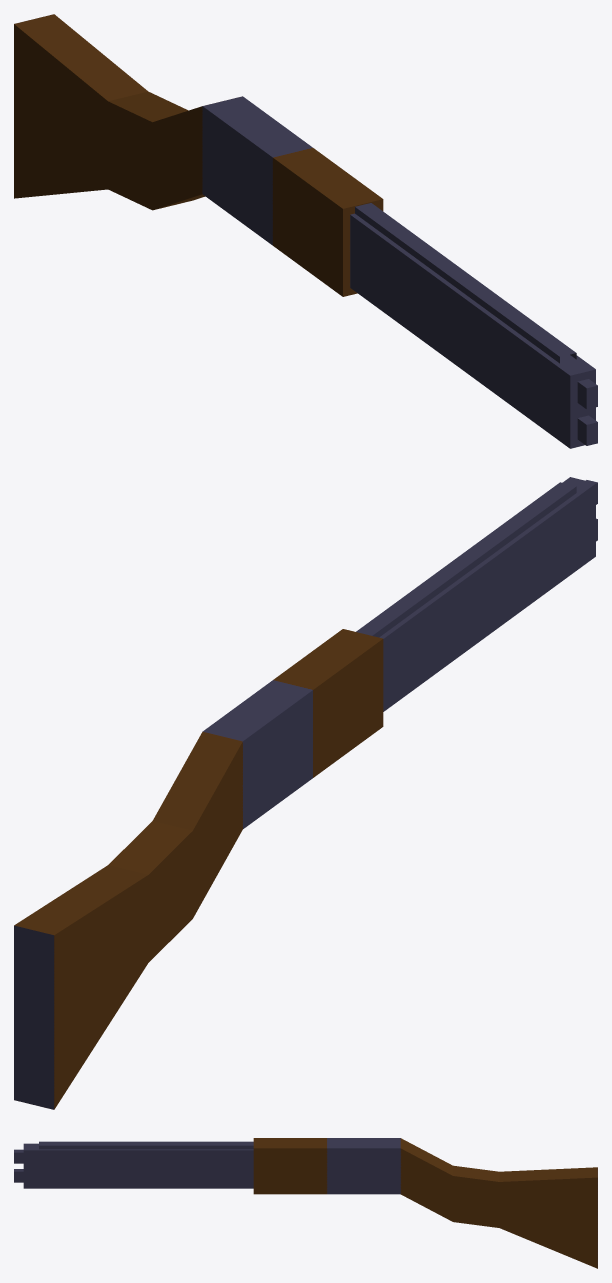
Rendered from rifle.glb.
The picture shows the model from 3 angles, top to bottom: view 1: azimuth 30°, elevation 25°; view 2: azimuth 150°, elevation 25°; view 3: azimuth 270°, elevation 25°; orthographic projection. The views are drawn at different scales.
Visible parts, largest first — view 1: rifle; view 2: rifle; view 3: rifle.
Boxes of the visible parts, x1=… form: rifle: x1=14, y1=14, x2=597, y2=448; rifle: x1=14, y1=477, x2=597, y2=1109; rifle: x1=14, y1=1138, x2=597, y2=1268.
Size of the model in its own units: 0.0847 by 0.4633 by 2.03.
Materials: 1 (1 with a texture image).
